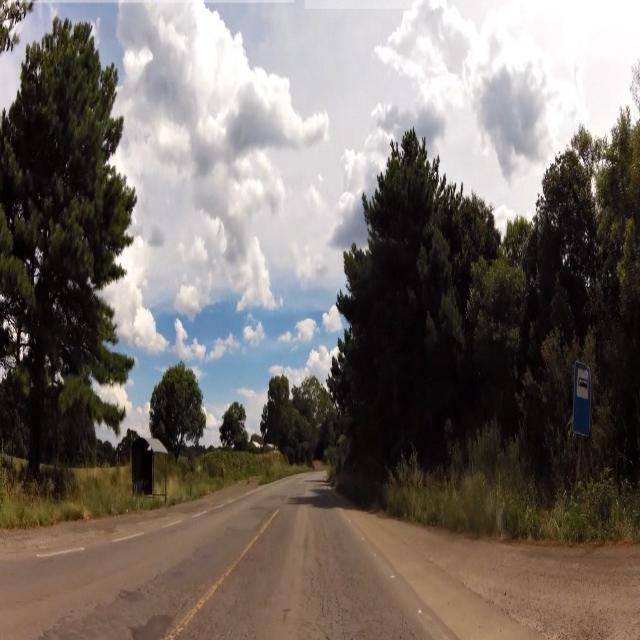S-14: (573, 360, 592, 443)
